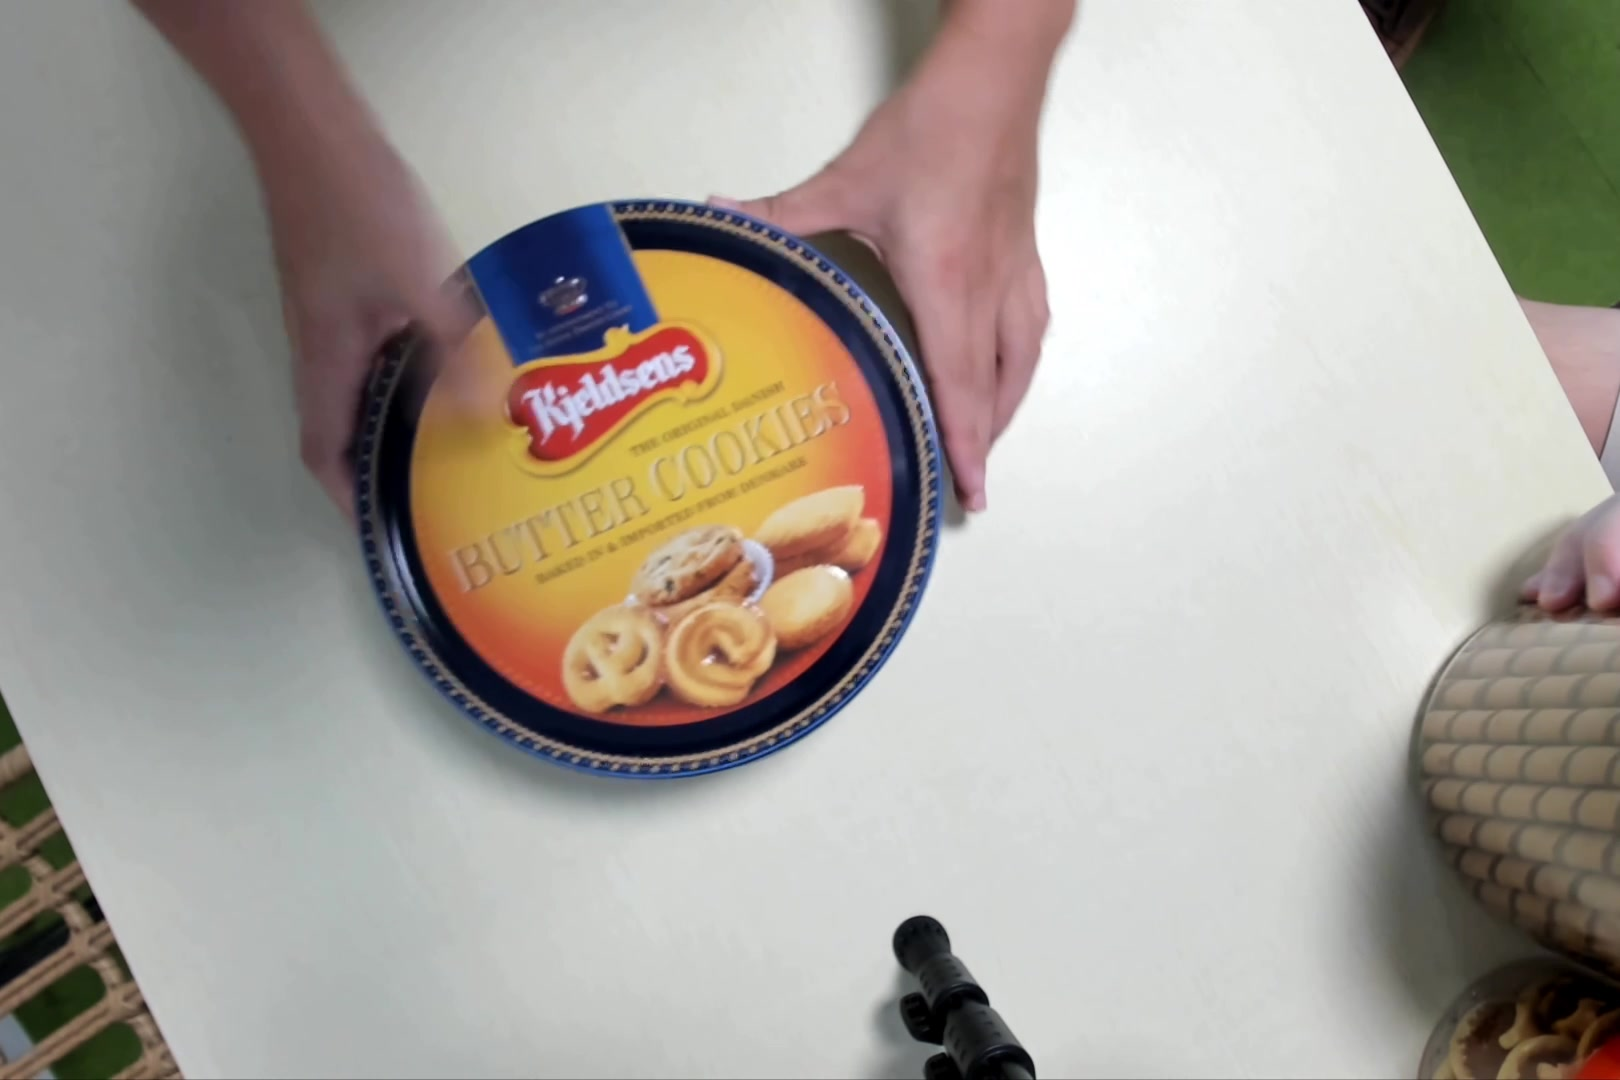BiscuitsCrackersCookies_400-499g_Halal_NonHealthy: (348, 210, 946, 787)
